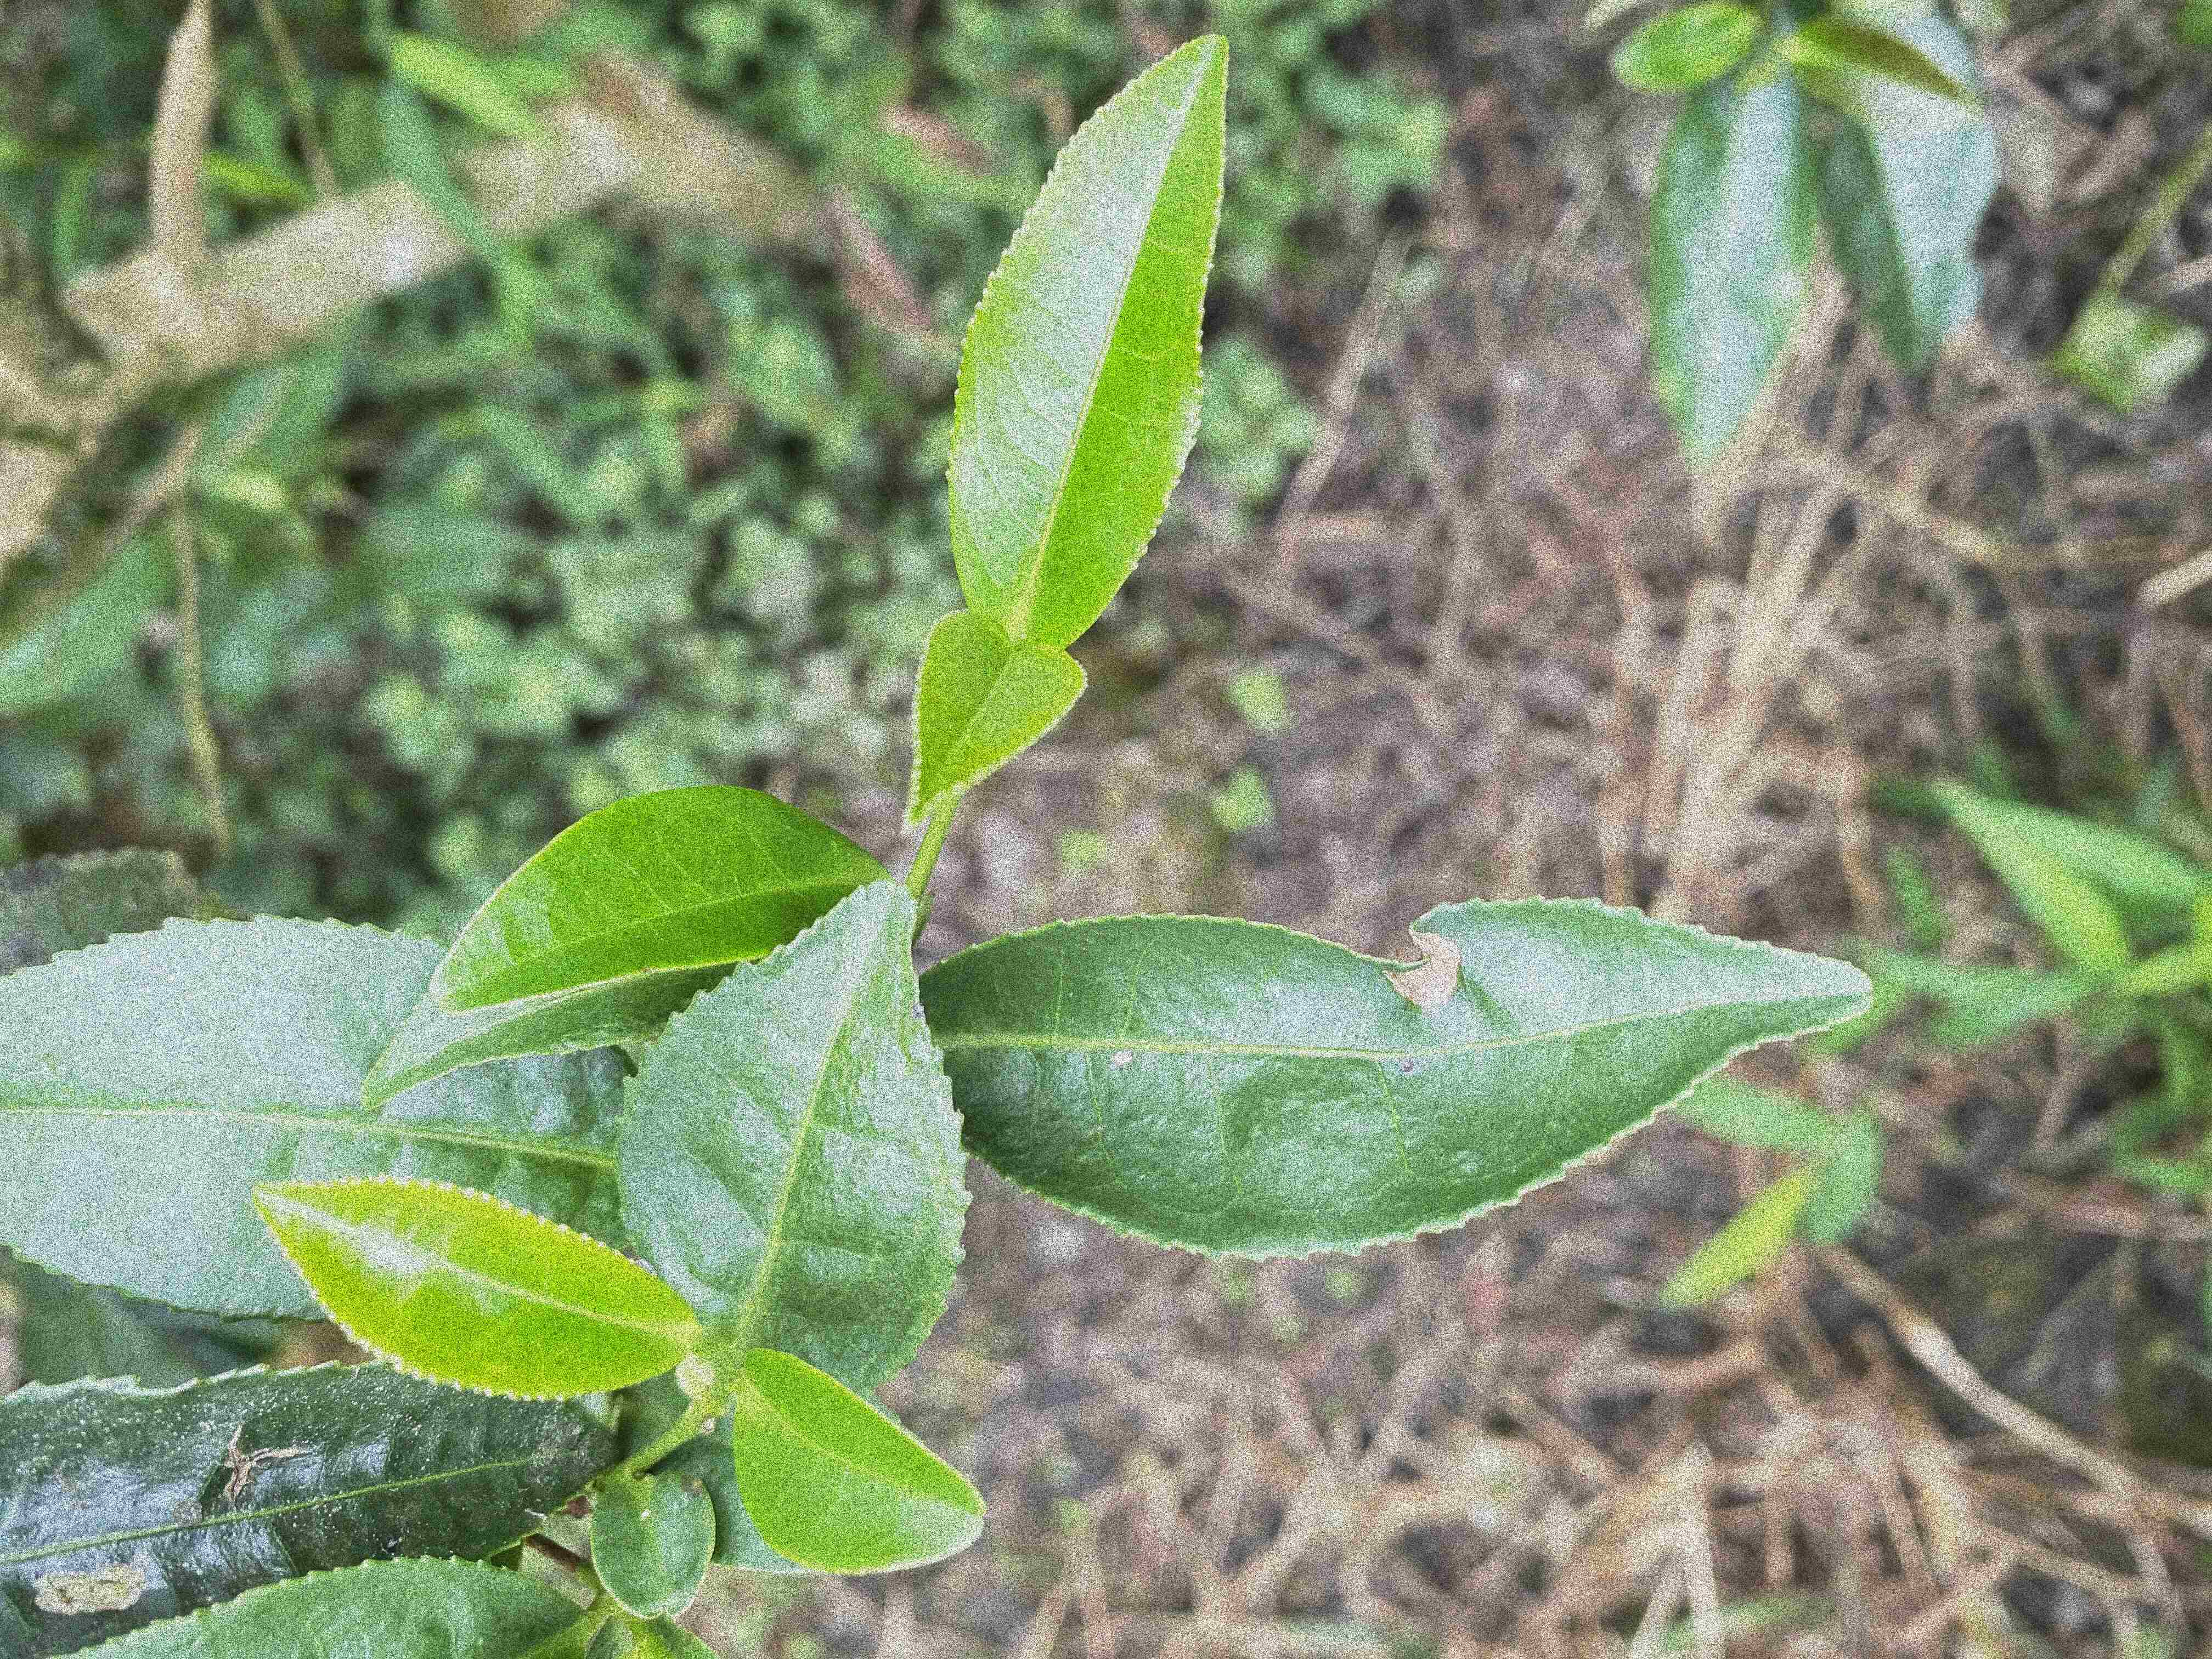healthy: (615, 878, 967, 1387), (944, 35, 1230, 645), (427, 781, 899, 1012), (251, 1169, 704, 1405), (728, 1347, 991, 1577), (897, 610, 1090, 833)
tanju_low: (921, 892, 1878, 1258), (3, 1359, 620, 1656)
